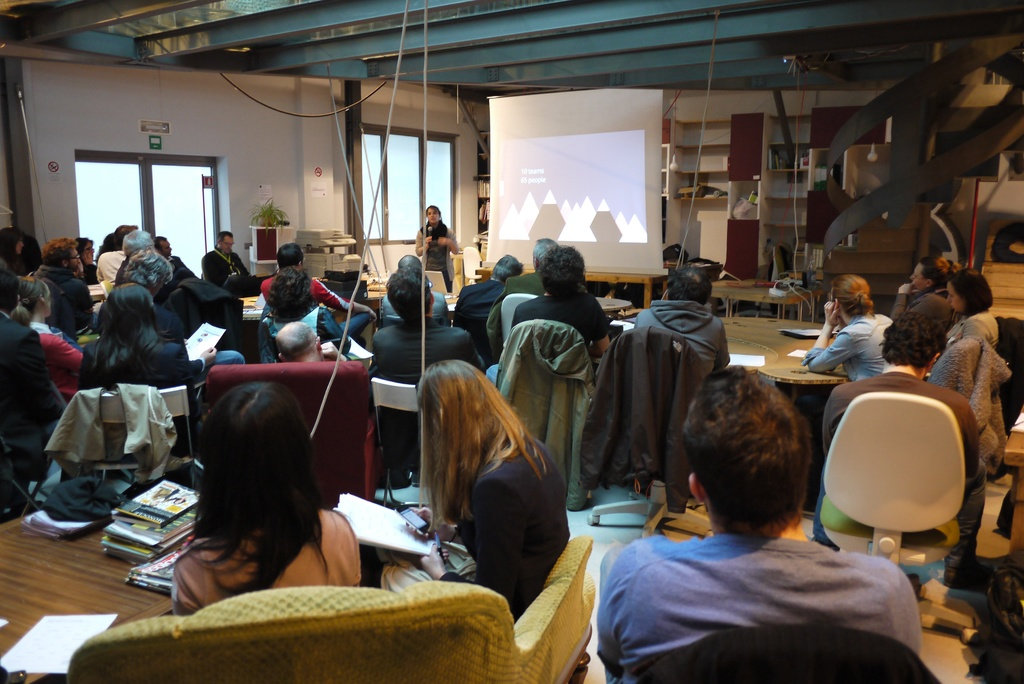Chair: (61, 536, 598, 683), (820, 387, 986, 576), (207, 359, 380, 514), (640, 625, 924, 683), (86, 382, 199, 493), (366, 374, 430, 501), (0, 439, 61, 519), (501, 294, 538, 352), (384, 310, 449, 326), (210, 348, 246, 373), (460, 247, 481, 282), (421, 268, 446, 294), (99, 280, 111, 298)
